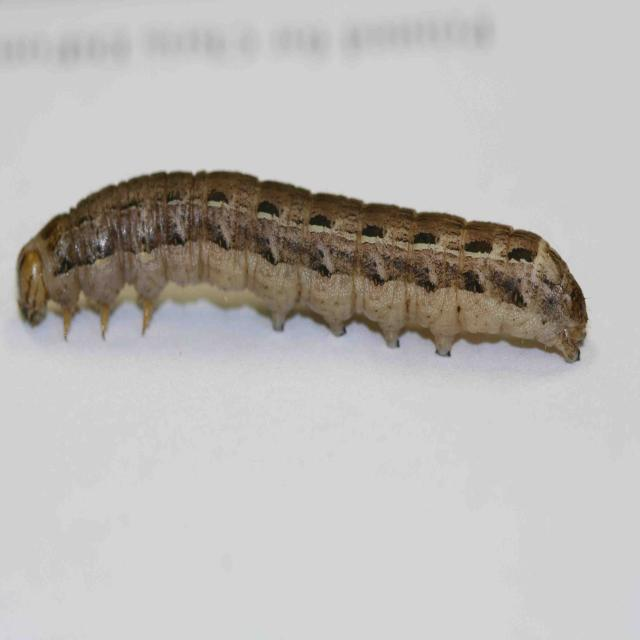worm: (17, 169, 590, 365)
